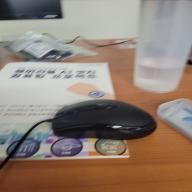Mouse: (51, 98, 160, 142)
